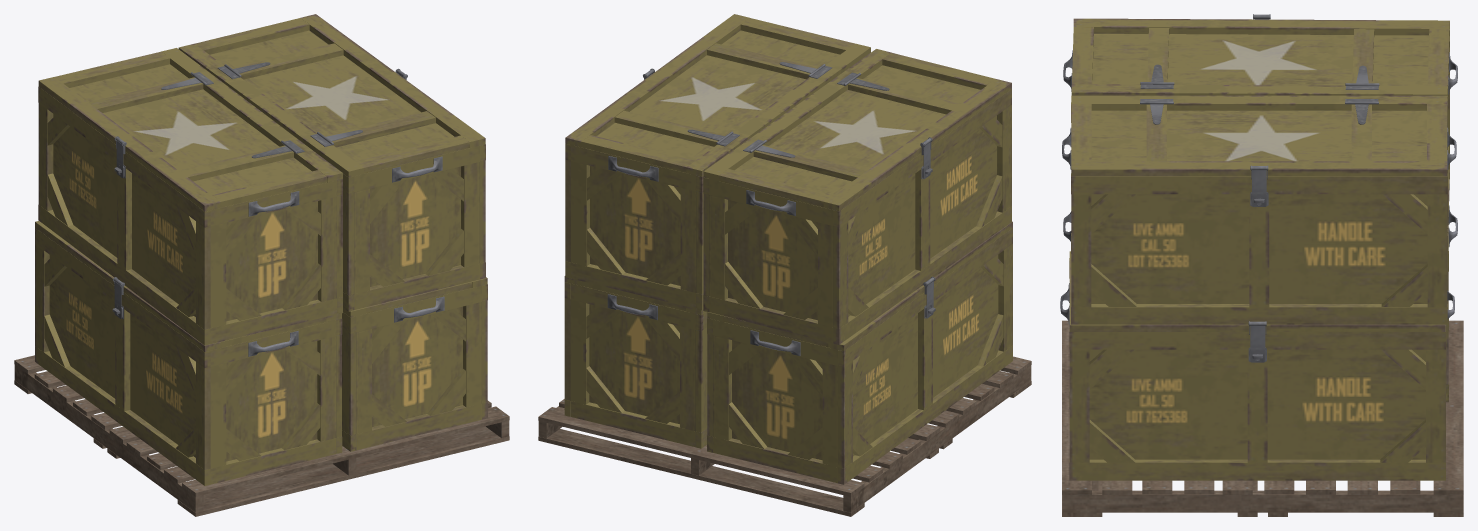
File: SM_Crate_Stack_04.fbx
3 renders of one model, left to right at view 1: azimuth 30°, elevation 25°; view 2: azimuth 150°, elevation 25°; view 3: azimuth 270°, elevation 25°, orthographic. The views are drawn at different scales.
Visible parts, largest first — view 1: SM_Crate_Stack_04_LOD0; view 2: SM_Crate_Stack_04_LOD0; view 3: SM_Crate_Stack_04_LOD0.
Boxes of the visible parts, x1,y1,x2,y2 form: SM_Crate_Stack_04_LOD0: (14,14,509,516); SM_Crate_Stack_04_LOD0: (538,14,1031,516); SM_Crate_Stack_04_LOD0: (1060,14,1463,516).
Size of the model in its own units: 160 by 161 by 150.
Materials: 1 (1 with a texture image).
